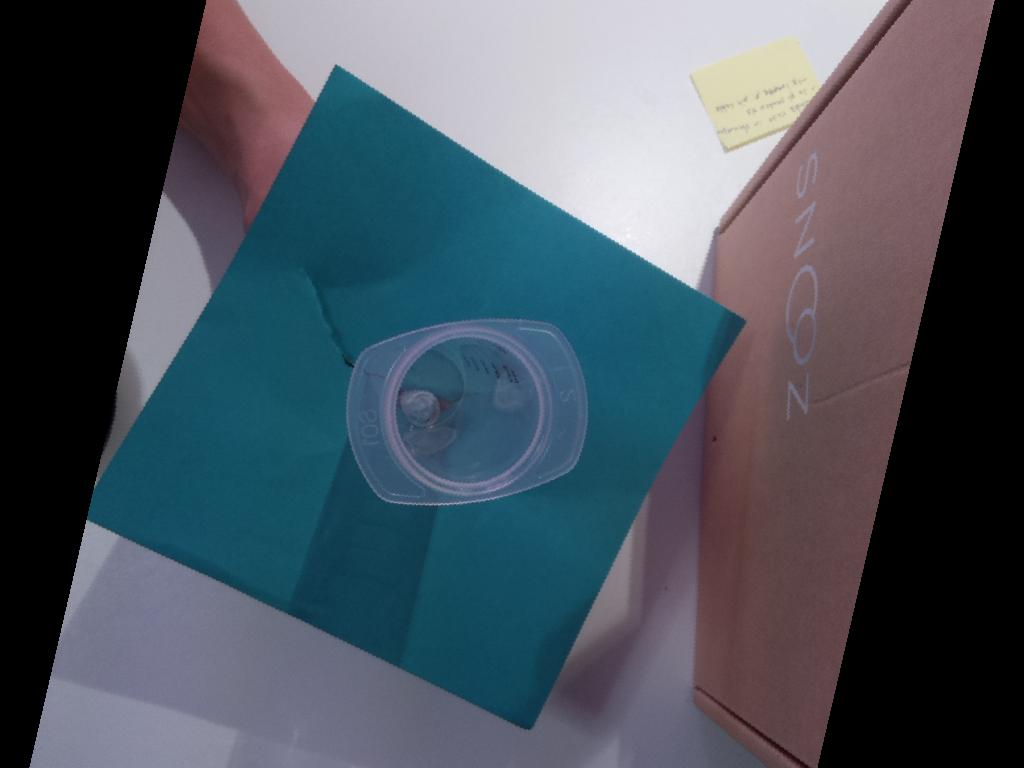clean: (345, 318, 590, 507)
